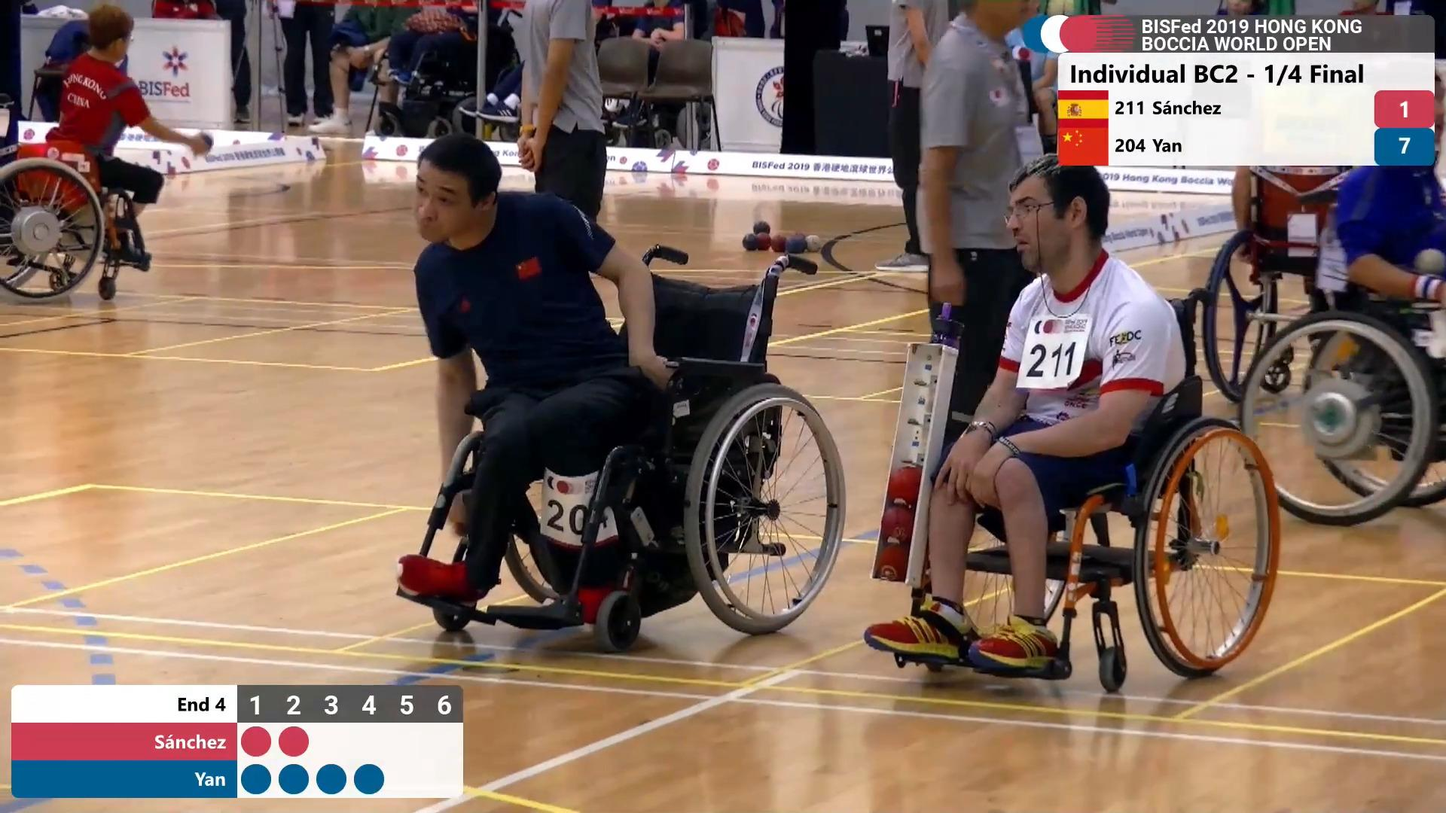blue_ball: (787, 236, 805, 254)
red_ball: (771, 234, 787, 254), (756, 232, 771, 249)
white_ball: (806, 234, 821, 253)
